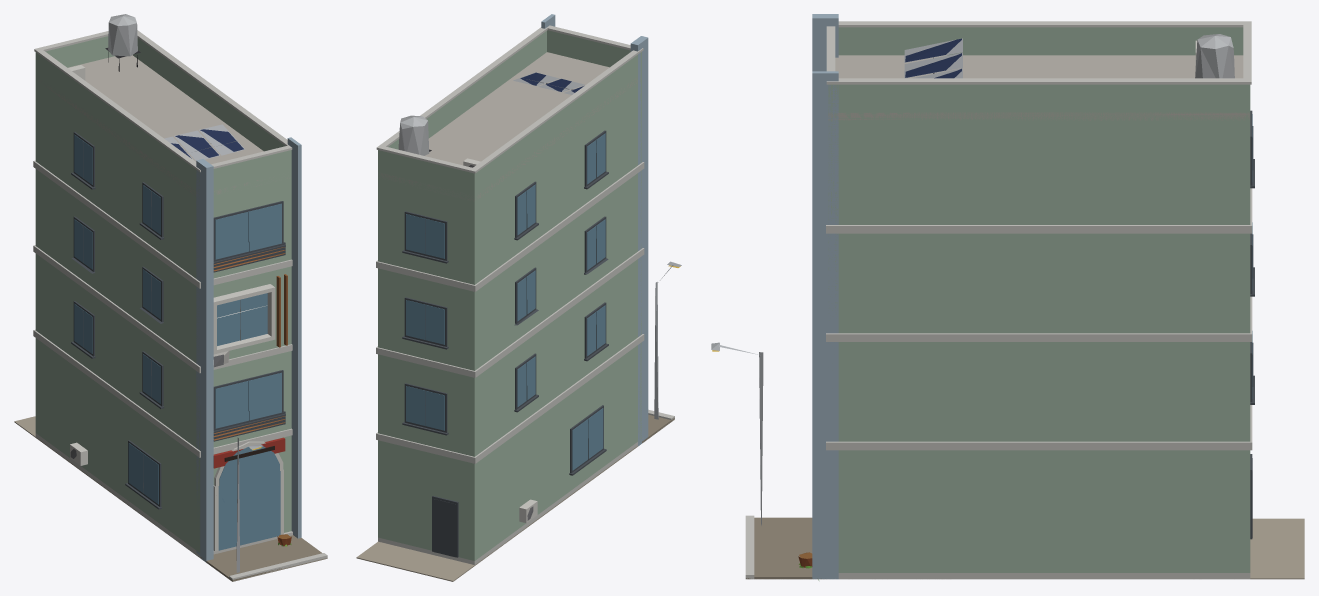
File: bay2_left.glb
3 renders of one model, left to right at view 1: azimuth 30°, elevation 25°; view 2: azimuth 150°, elevation 25°; view 3: azimuth 270°, elevation 25°, orthographic. The views are drawn at different scales.
Visible parts, largest first — view 1: body; view 2: body; view 3: body.
Boxes of the visible parts, left/top/right/bottom form: body: left=14, top=14, right=327, bottom=581; body: left=356, top=14, right=681, bottom=581; body: left=711, top=14, right=1304, bottom=580.
Bounding box in the file's own units: 4.42 × 17 × 16.87.
